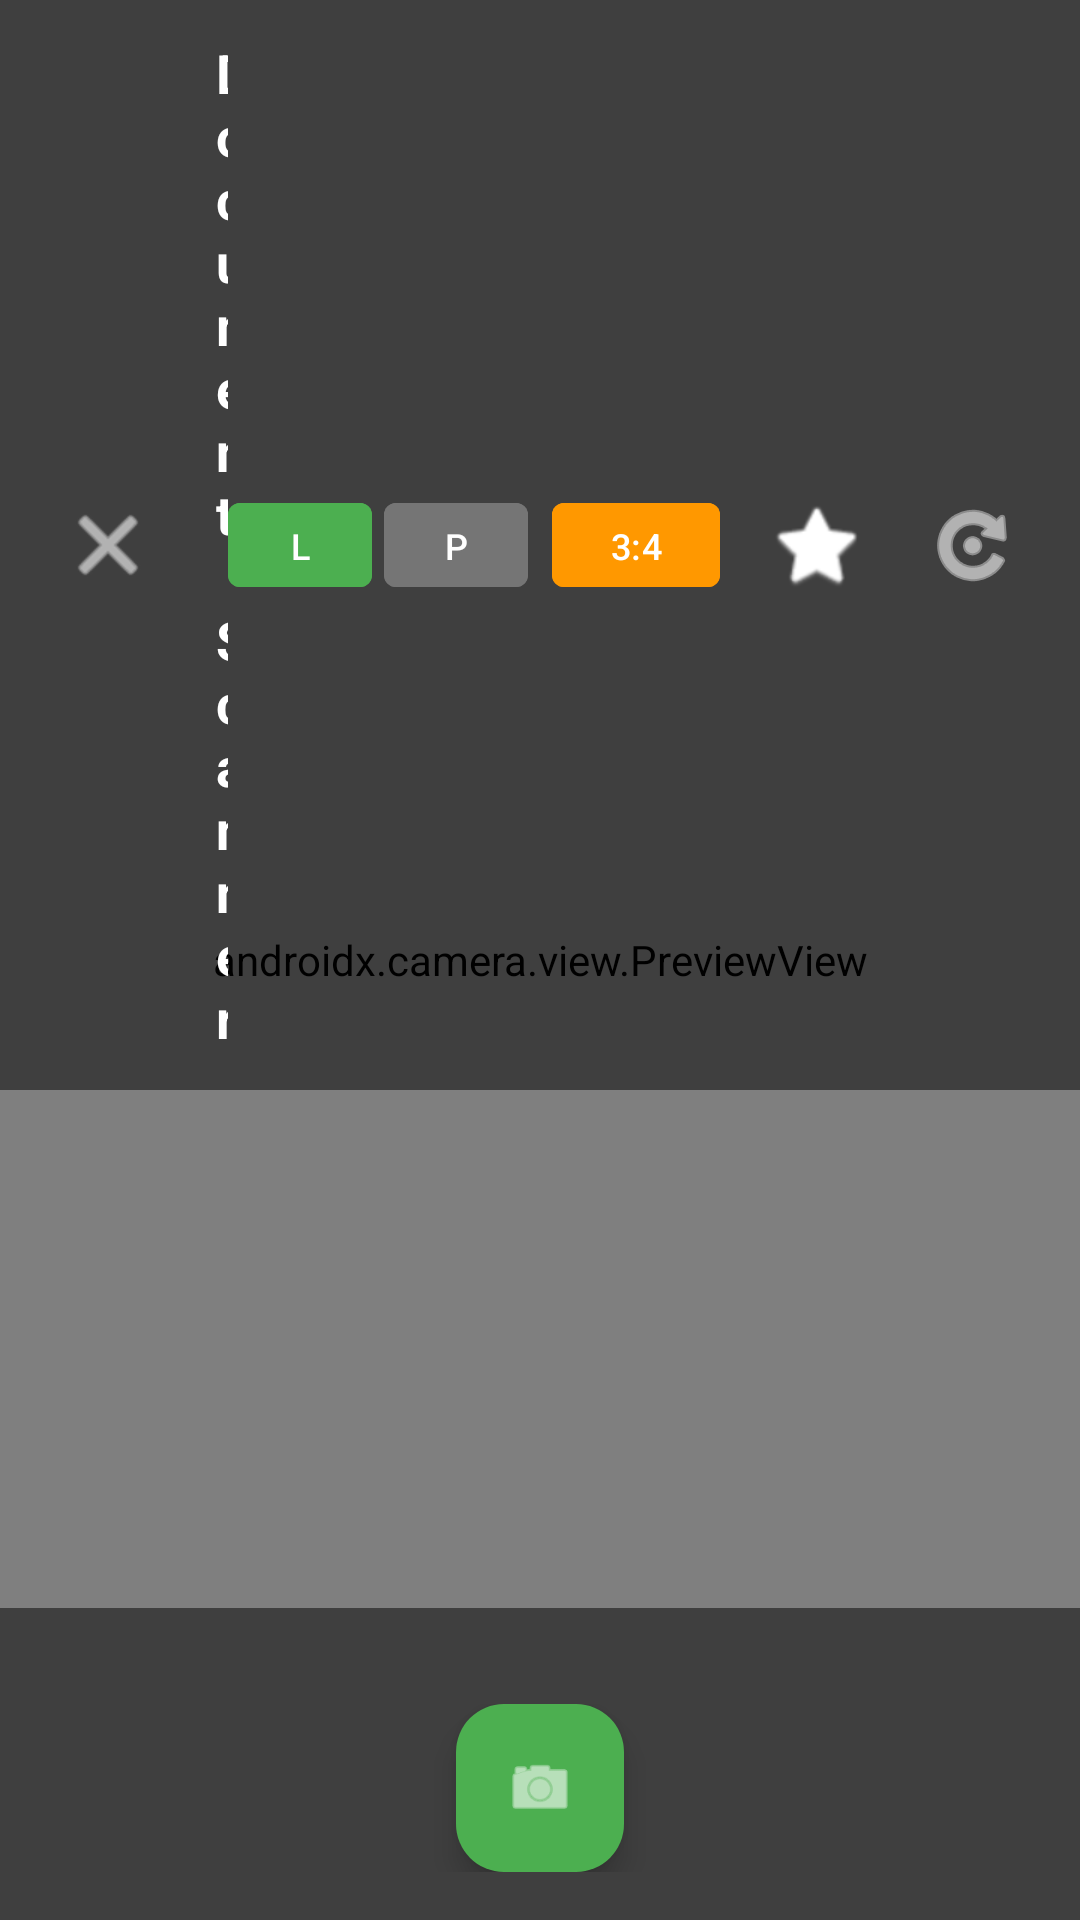

Where to tap for icons on this 1080*1920 app screen, as [x,y]:
Close: [108,545]
Flip Camera: [972,545]
